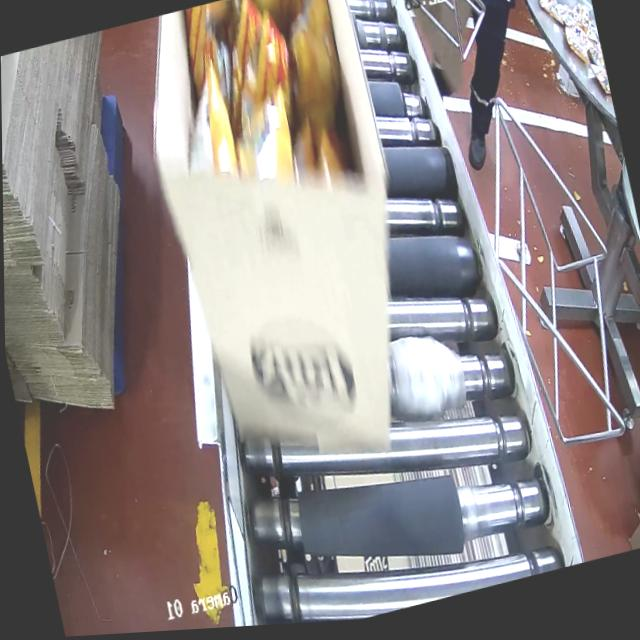FRENCH_CHEESE: (140, 0, 361, 205)
